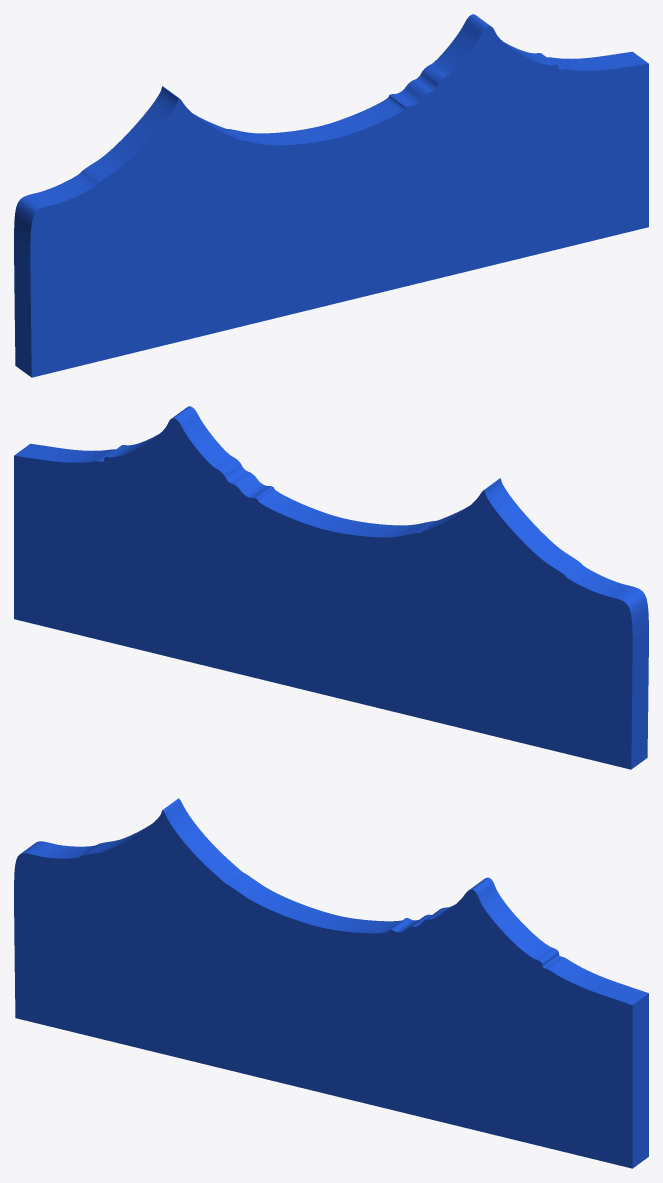
The model's file is wave1.glb.
The picture shows the model from 3 angles, top to bottom: view 1: azimuth 30°, elevation 25°; view 2: azimuth 150°, elevation 25°; view 3: azimuth 330°, elevation 25°; orthographic projection.
Parts seen in each view (by area): view 1: wave.svg; view 2: wave.svg; view 3: wave.svg.
Part boxes in pixels (x1=…): wave.svg: x1=14, y1=14, x2=648, y2=377; wave.svg: x1=14, y1=406, x2=648, y2=769; wave.svg: x1=14, y1=798, x2=648, y2=1168.
Bounding box in the file's own units: 0.6538 × 0.2461 × 0.03.
